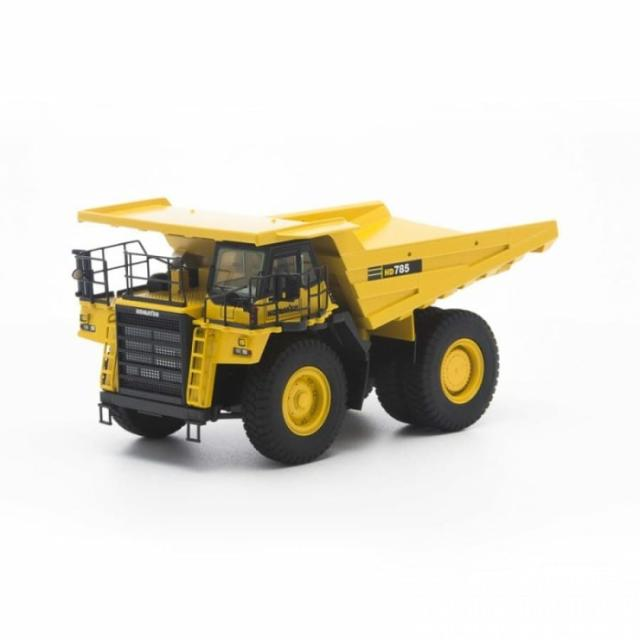dump_truck: (70, 193, 562, 469)
